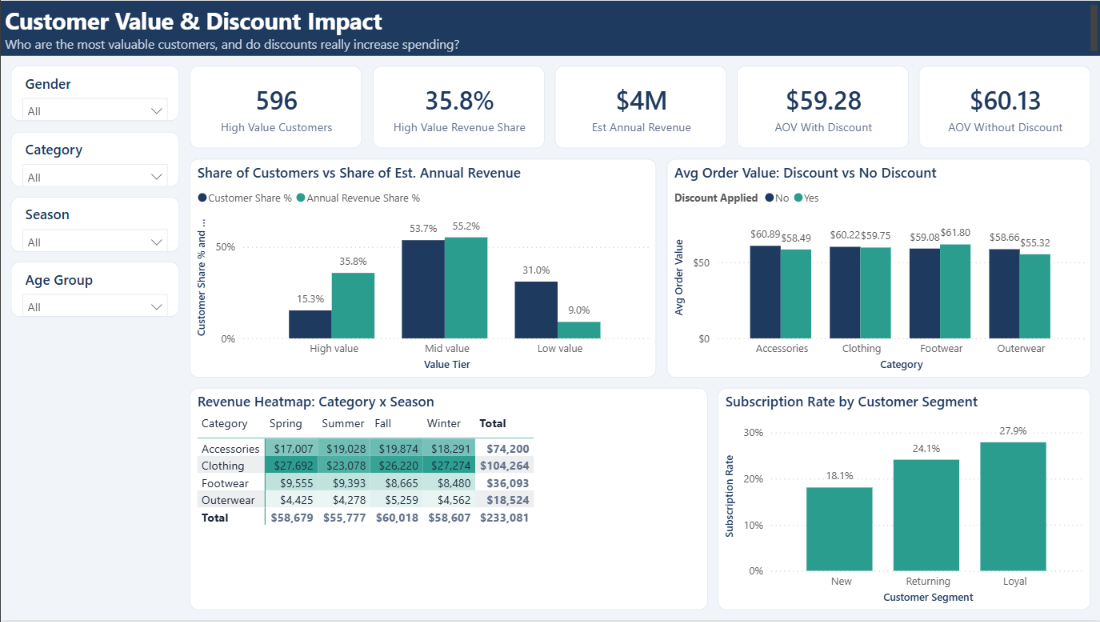

This screenshot's page, from the dashboard's own definition file:
{"tool":"powerbi","page":{"name":"Customer Value & Discounts","canvas":[1280,720],"ordinal":1},"visuals":[{"type":"textbox","box":[0,0,1280,64],"z":1000},{"type":"slicer","fields":{"Values":["Customers.Gender"]},"box":[12,76,196,64],"z":2000},{"type":"slicer","fields":{"Values":["Customers.Category"]},"box":[12,152,196,64],"z":3000},{"type":"slicer","fields":{"Values":["Customers.Season"]},"box":[12,228,196,64],"z":4000},{"type":"slicer","fields":{"Values":["Customers.Age Group"]},"box":[12,304,196,64],"z":5000},{"type":"card","title":"High-Value Customers","fields":{"Values":["Customers.High Value Customers"]},"box":[220,76,200,96],"z":6000},{"type":"card","title":"High-Value Share of Annual Revenue","fields":{"Values":["Customers.High Value Revenue Share"]},"box":[432,76,200,96],"z":7000},{"type":"card","title":"Est. Annual Revenue","fields":{"Values":["Customers.Est Annual Revenue"]},"box":[644,76,200,96],"z":8000},{"type":"card","title":"Avg Order (with discount)","fields":{"Values":["Customers.AOV With Discount"]},"box":[856,76,200,96],"z":9000},{"type":"card","title":"Avg Order (no discount)","fields":{"Values":["Customers.AOV Without Discount"]},"box":[1068,76,200,96],"z":10000},{"type":"clusteredColumnChart","title":"Share of Customers vs Share of Est. Annual Revenue","fields":{"Category":["Value Tiers.Value Tier"],"Y":["Customers.Customer Share %","Customers.Annual Revenue Share %"]},"box":[220,184,542.7,254],"z":11000},{"type":"clusteredColumnChart","title":"Avg Order Value: Discount vs No Discount","fields":{"Category":["Customers.Category"],"Series":["Customers.Discount Applied"],"Y":["Customers.Avg Order Value"]},"box":[774.7,184,493.3,254],"z":12000},{"type":"pivotTable","title":"Revenue Heatmap: Category x Season","fields":{"Rows":["Customers.Category"],"Columns":["Customers.Season"],"Values":["Customers.Total Revenue"]},"box":[220,450,602.3,258],"z":13000},{"type":"clusteredColumnChart","title":"Subscription Rate by Customer Segment","fields":{"Category":["Customers.Customer Segment"],"Y":["Customers.Subscription Rate"]},"box":[834.3,450,433.7,258],"z":14000}]}

Visuals, with their boxes in screenshot pixels (x1, y1, x2, y2), scaled from the page's 1280x720 canvas onto the 1100x622 screenshot:
textbox: 0 0 1099 55
slicer - Customers.Gender: 10 66 179 121
slicer - Customers.Category: 10 131 179 187
slicer - Customers.Season: 10 197 179 252
slicer - Customers.Age Group: 10 263 179 318
"High-Value Customers" card: 189 66 361 149
"High-Value Share of Annual Revenue" card: 371 66 543 149
"Est. Annual Revenue" card: 553 66 725 149
"Avg Order (with discount)" card: 736 66 908 149
"Avg Order (no discount)" card: 918 66 1090 149
"Share of Customers vs Share of Est. Annual Revenue" clusteredColumnChart: 189 159 655 378
"Avg Order Value: Discount vs No Discount" clusteredColumnChart: 666 159 1090 378
"Revenue Heatmap: Category x Season" pivotTable: 189 389 707 612
"Subscription Rate by Customer Segment" clusteredColumnChart: 717 389 1090 612
